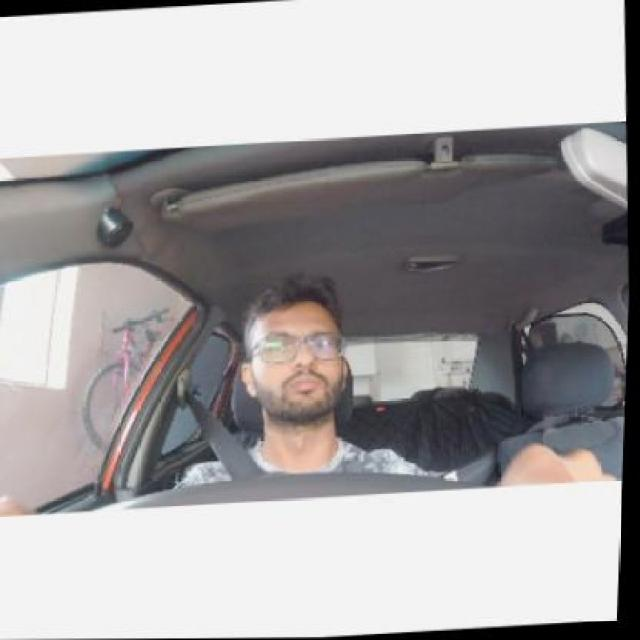person: (231, 290, 358, 427)
